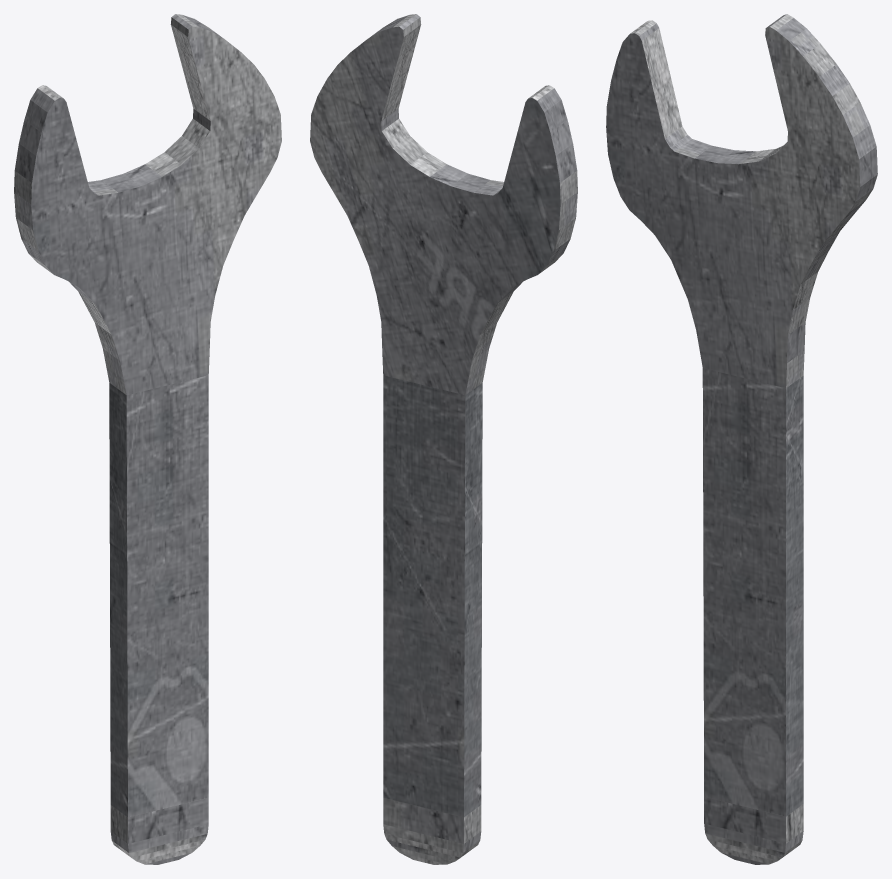
The model's file is wrench.fbx.
3 renders of one model, left to right at view 1: azimuth 30°, elevation 25°; view 2: azimuth 150°, elevation 25°; view 3: azimuth 330°, elevation 25°, orthographic.
Visible parts, largest first — view 1: Cube; view 2: Cube; view 3: Cube.
Boxes of the visible parts, x1,y1,x2,y2 form: Cube: [14, 14, 281, 864]; Cube: [310, 14, 577, 864]; Cube: [606, 14, 877, 864].
Bounding box in the file's own units: 23.21 × 73.44 × 2.78.
Materials: 1 (1 with a texture image).
